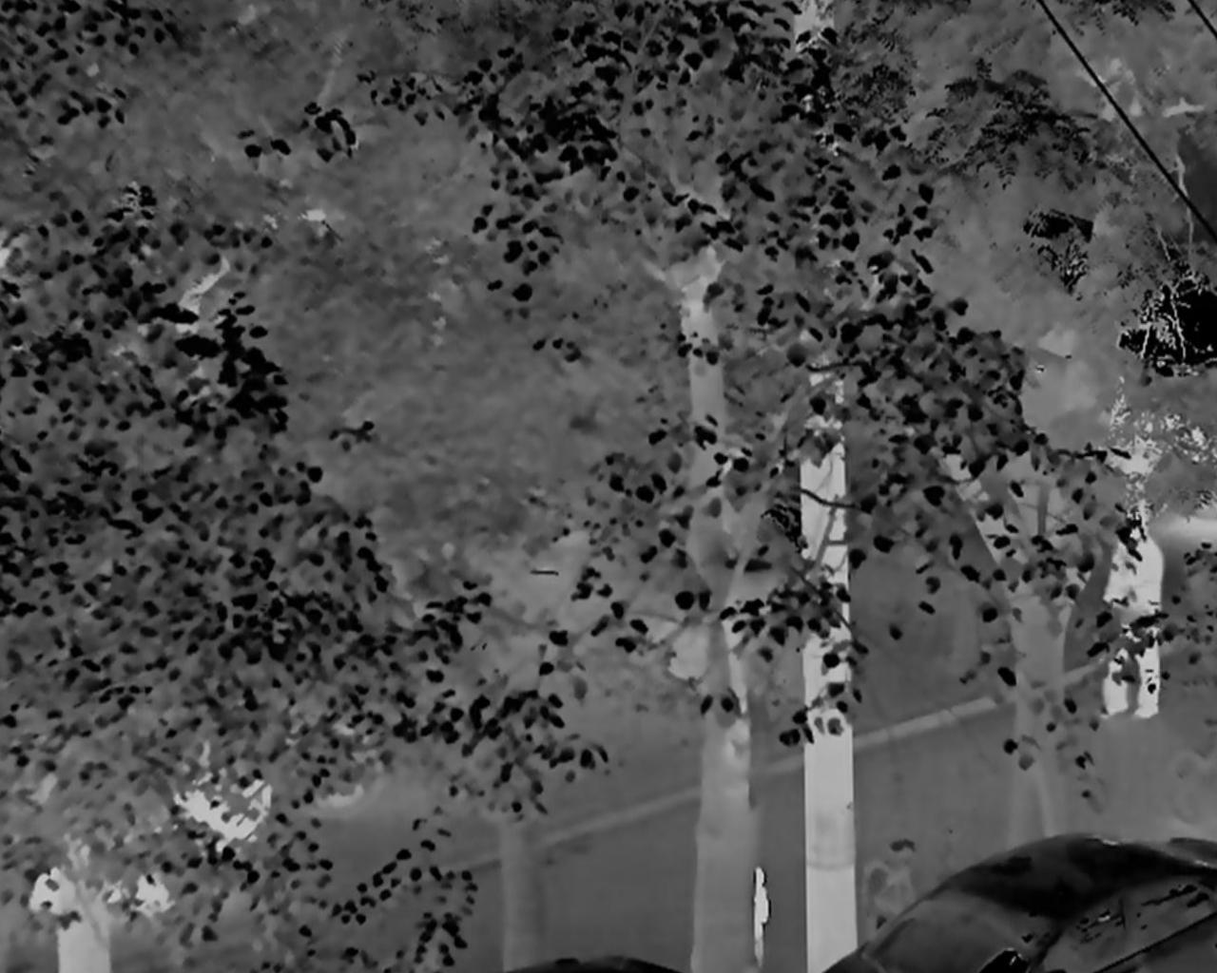person: (1109, 504, 1166, 724)
